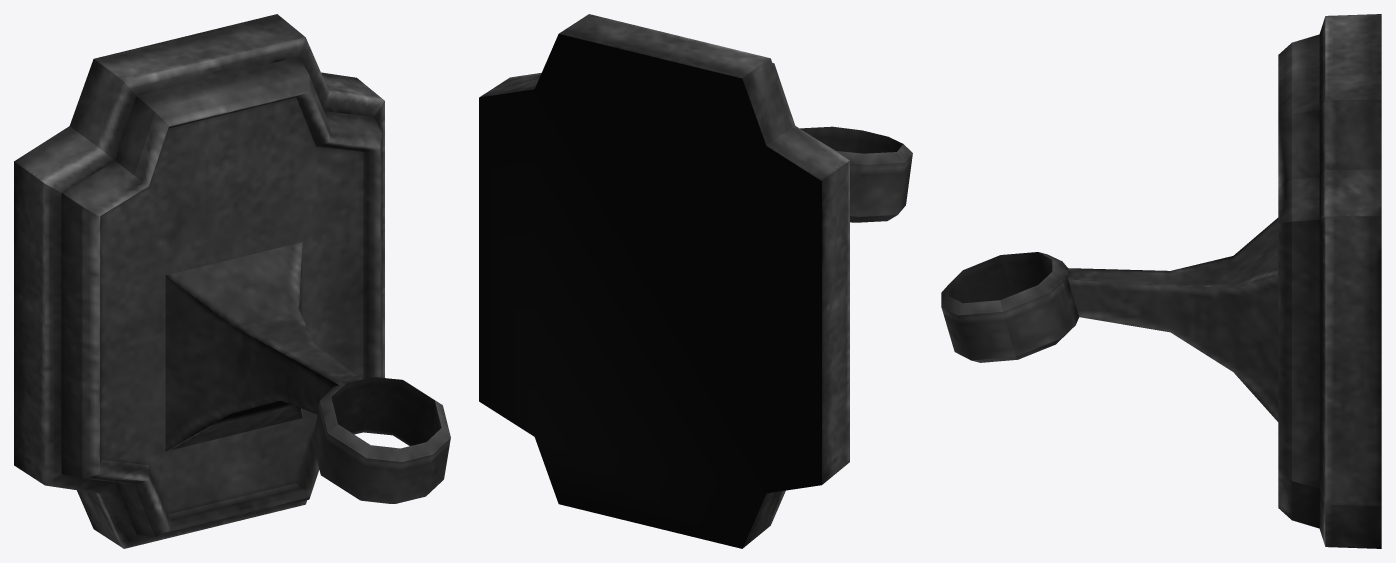
Rendered from torch_sconce_empty.FBX.
3 renders of one model, left to right at view 1: azimuth 30°, elevation 25°; view 2: azimuth 150°, elevation 25°; view 3: azimuth 270°, elevation 25°, orthographic. The views are drawn at different scales.
Visible parts, largest first — view 1: torch_sconce_empty; view 2: torch_sconce_empty; view 3: torch_sconce_empty.
Boxes of the visible parts, box(x1,y1,x2,y2) form: torch_sconce_empty: box(14, 14, 450, 548); torch_sconce_empty: box(479, 14, 912, 548); torch_sconce_empty: box(941, 14, 1381, 548).
Size of the model in its own units: 0.4454 by 0.5838 by 0.5184.
Materials: 1 (1 with a texture image).
